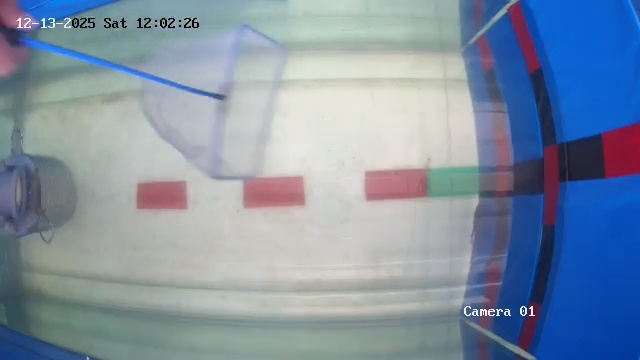fish: (467, 196, 492, 238)
